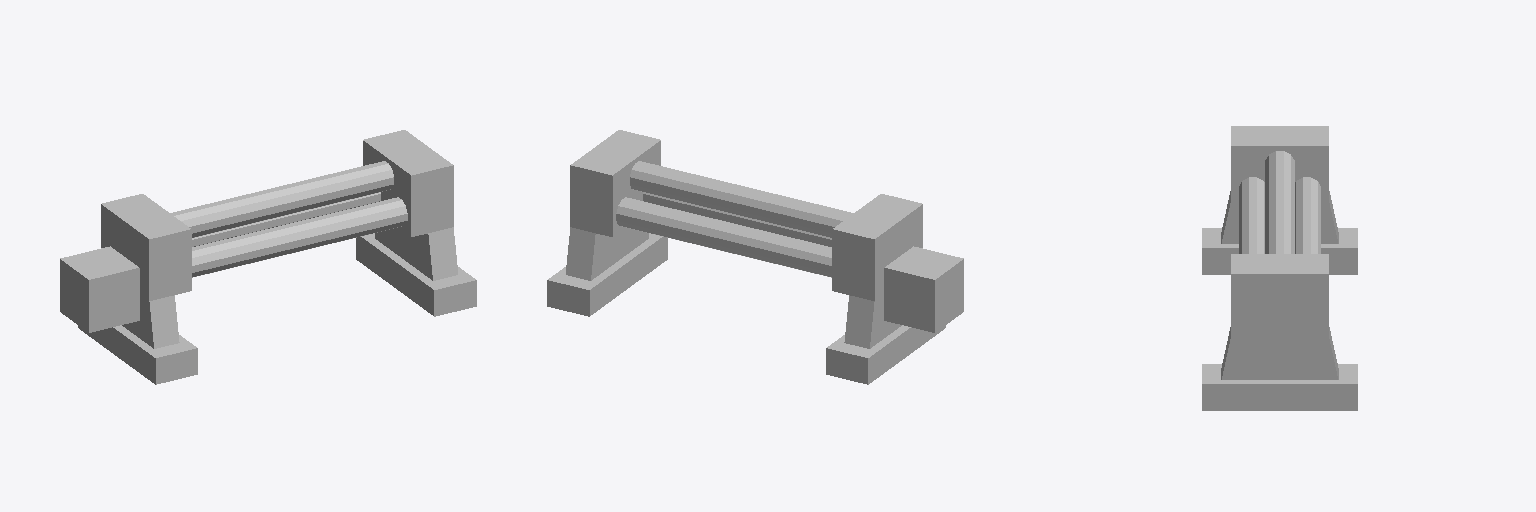
Rendered from metal_roller.obj.
3 renders of one model, left to right at view 1: azimuth 30°, elevation 25°; view 2: azimuth 150°, elevation 25°; view 3: azimuth 270°, elevation 25°, orthographic.
Visible parts, largest first — view 1: cube, cylinder; view 2: cube, cylinder; view 3: cube, cylinder.
Boxes of the visible parts, x1,y1,x2,y2 form: cube: [60, 130, 476, 384]; cylinder: [170, 161, 407, 277]; cube: [547, 130, 963, 384]; cylinder: [616, 161, 853, 277]; cube: [1202, 126, 1357, 410]; cylinder: [1239, 151, 1320, 253].
Size of the model in its own units: 2.69 by 0.9375 by 1.